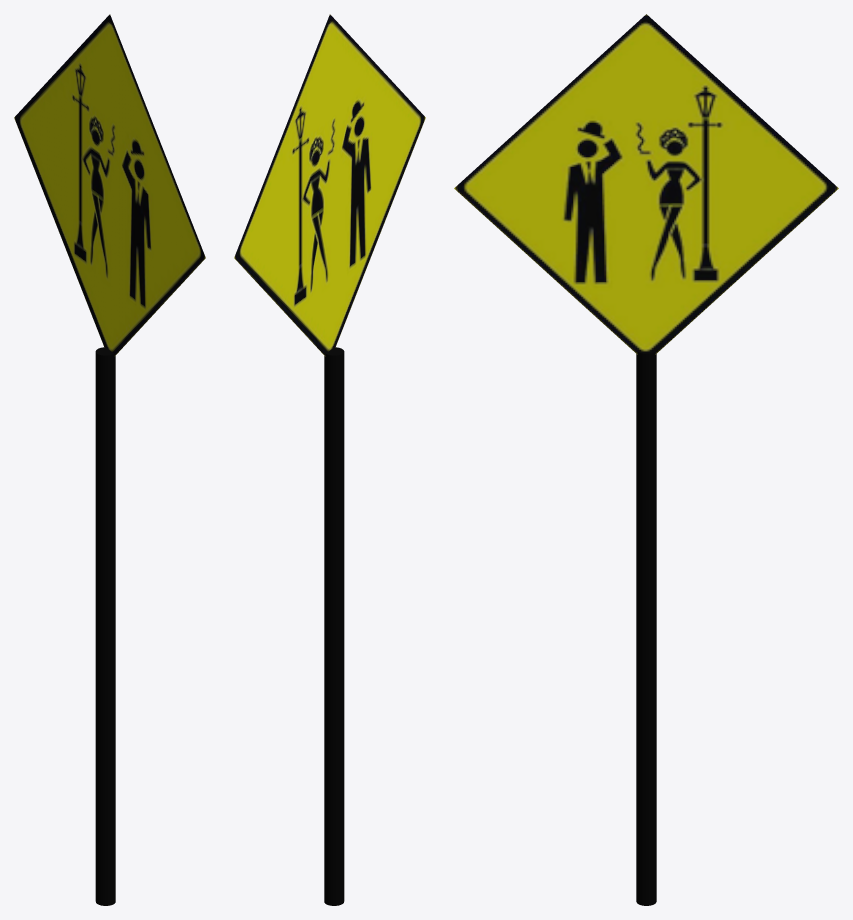
Rendered from street_signs.fbx.
The picture shows the model from 3 angles, left to right: view 1: azimuth 30°, elevation 25°; view 2: azimuth 150°, elevation 25°; view 3: azimuth 270°, elevation 25°; orthographic projection.
Parts seen in each view (by area): view 1: street_sign1; view 2: street_sign1; view 3: street_sign1.
Part boxes in pixels (bbox=[...]): street_sign1: bbox=[14, 14, 205, 905]; street_sign1: bbox=[234, 14, 425, 905]; street_sign1: bbox=[454, 14, 838, 905].
Size of the model in its own units: 12.68 by 619 by 243.
